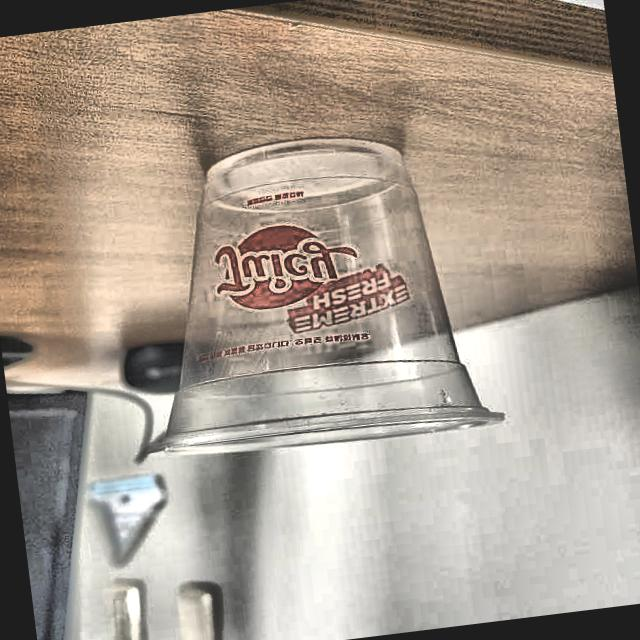plastic cup: (101, 120, 504, 474)
